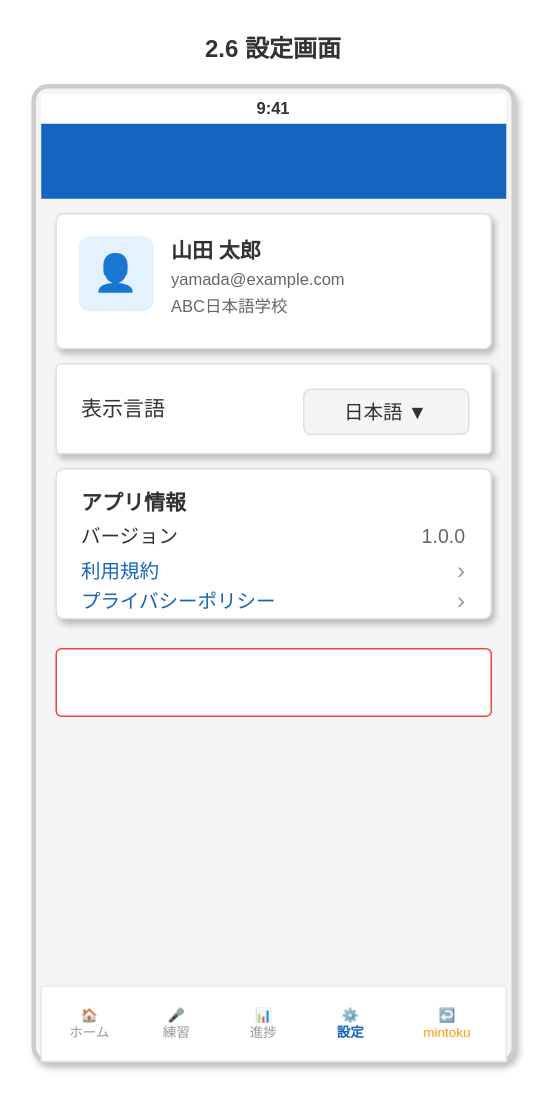
The diagram is 551 pixels wide and 1100 high, and some of its shapes have lost their labels. The shapes that lost their labels are listed below. From the top down, each one's centre as x and y in pixels, then its label:
point (273, 160): 設定
point (273, 681): ログアウト
